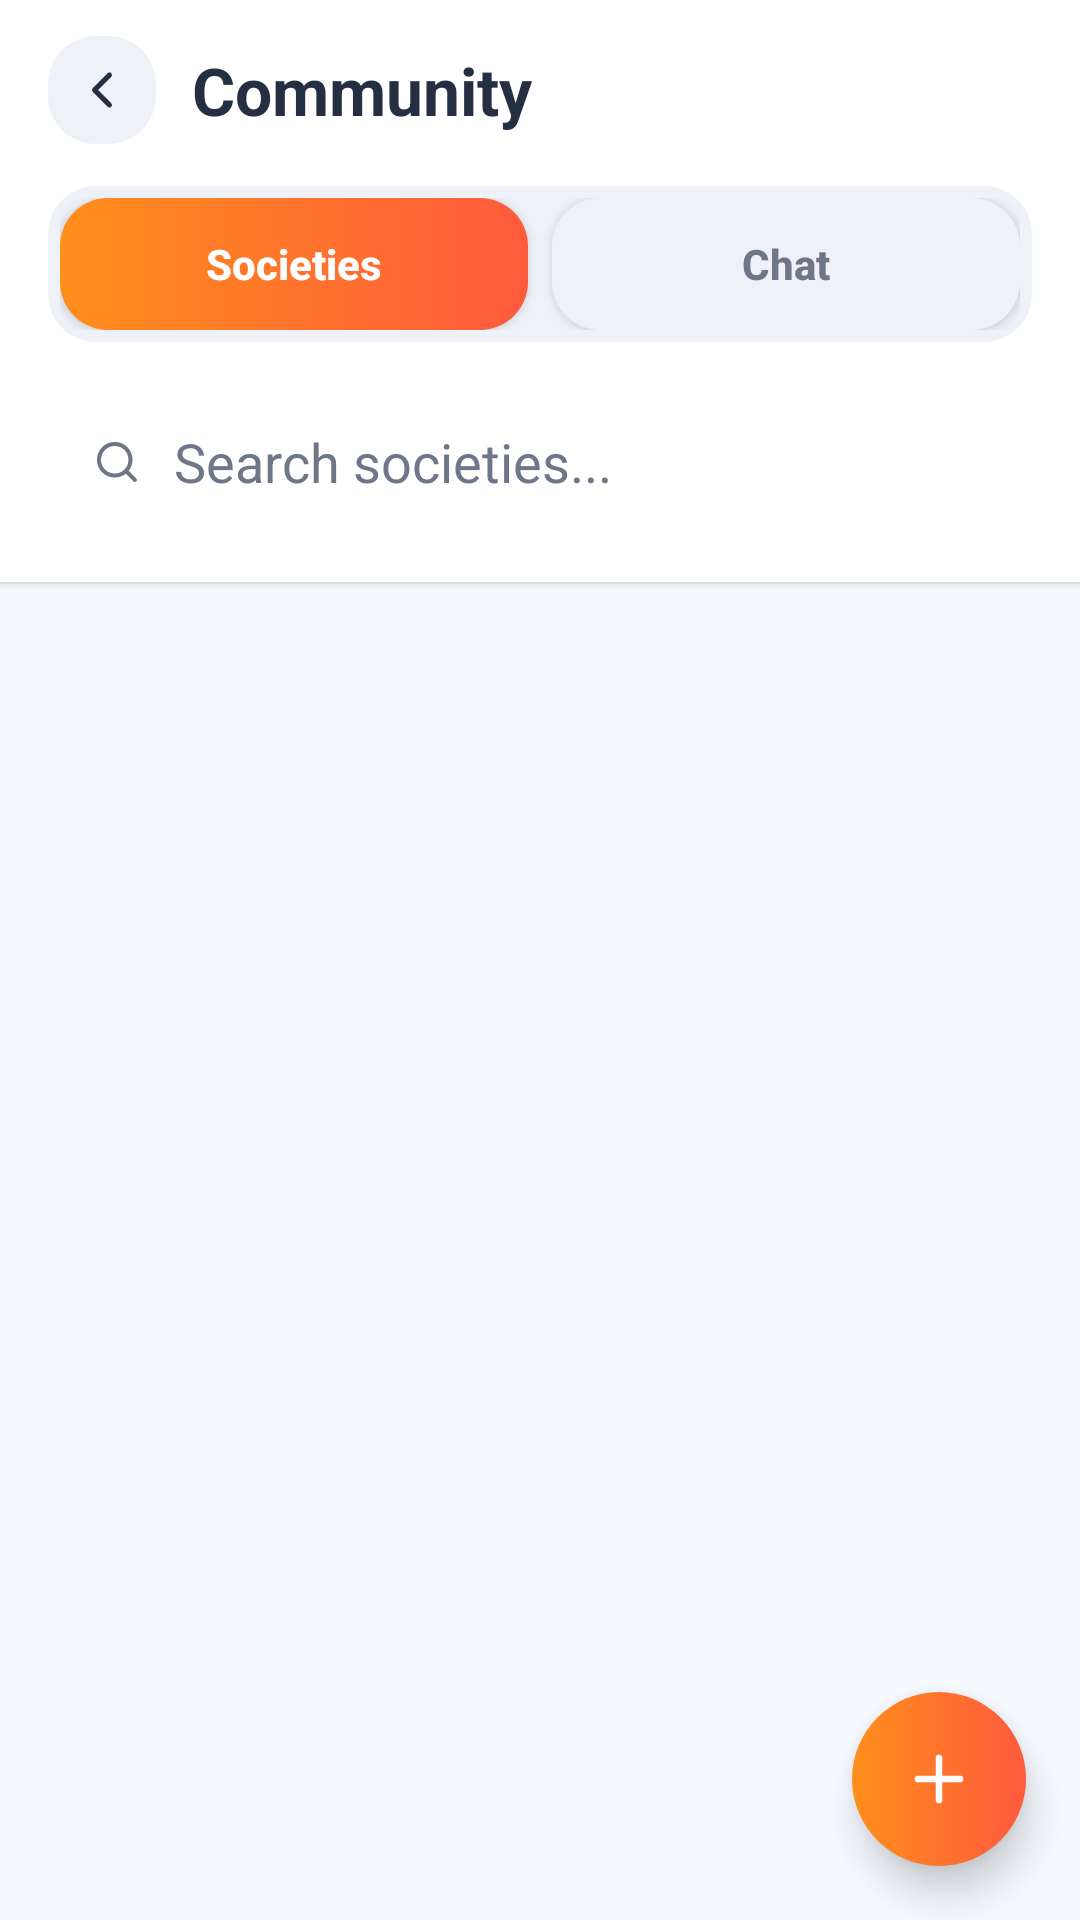

Locate icon controls on the screen. Image size 1080 x 1920, boxes as (x1, y1, x2, y2).
back: (92, 72, 112, 108)
plus: (903, 1743, 964, 1815)
